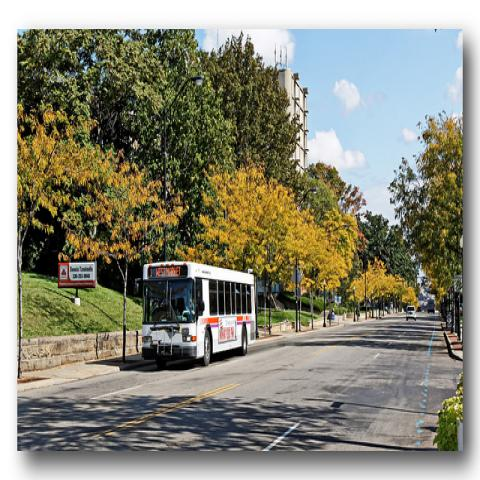bus: (141, 260, 259, 371)
car: (406, 305, 417, 322), (418, 306, 422, 312)
